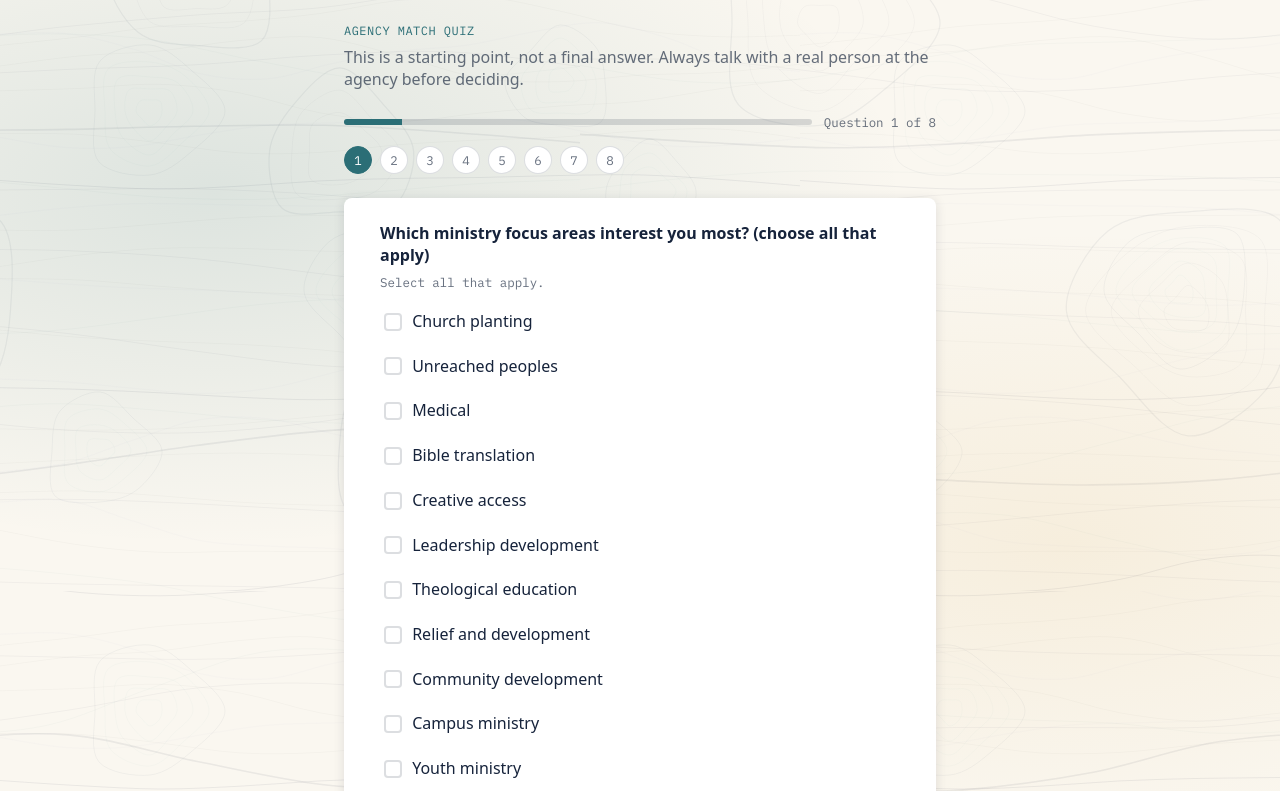
MatchQuiz step navigation › only shows "See my matches" on the final question
The width and height of the screenshot is (1280, 791).
Expected: the button "see my matches" is not shown
Click the button "8".
click(610, 160)  # box left=596, top=146, right=624, bottom=174
(page scrolled)
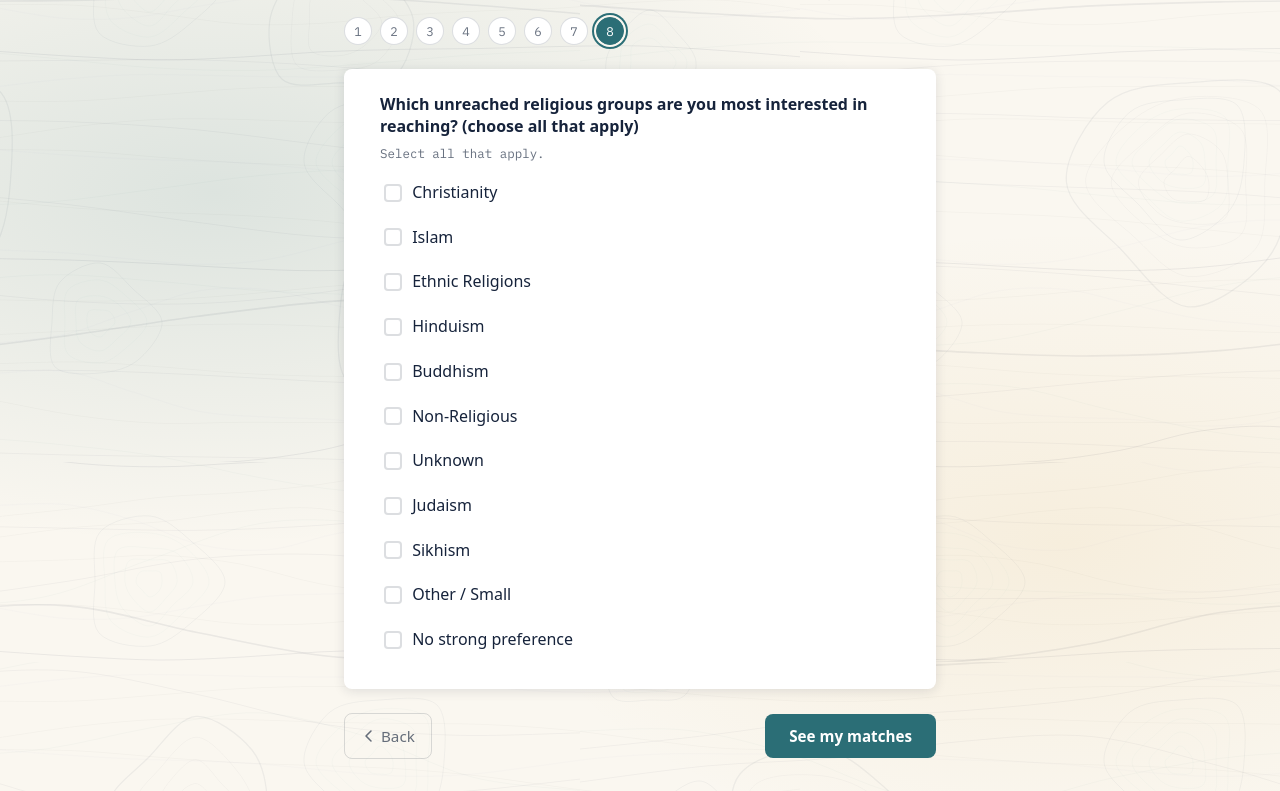
Now the button "See my matches" is shown, box left=765, top=714, right=936, bottom=758
